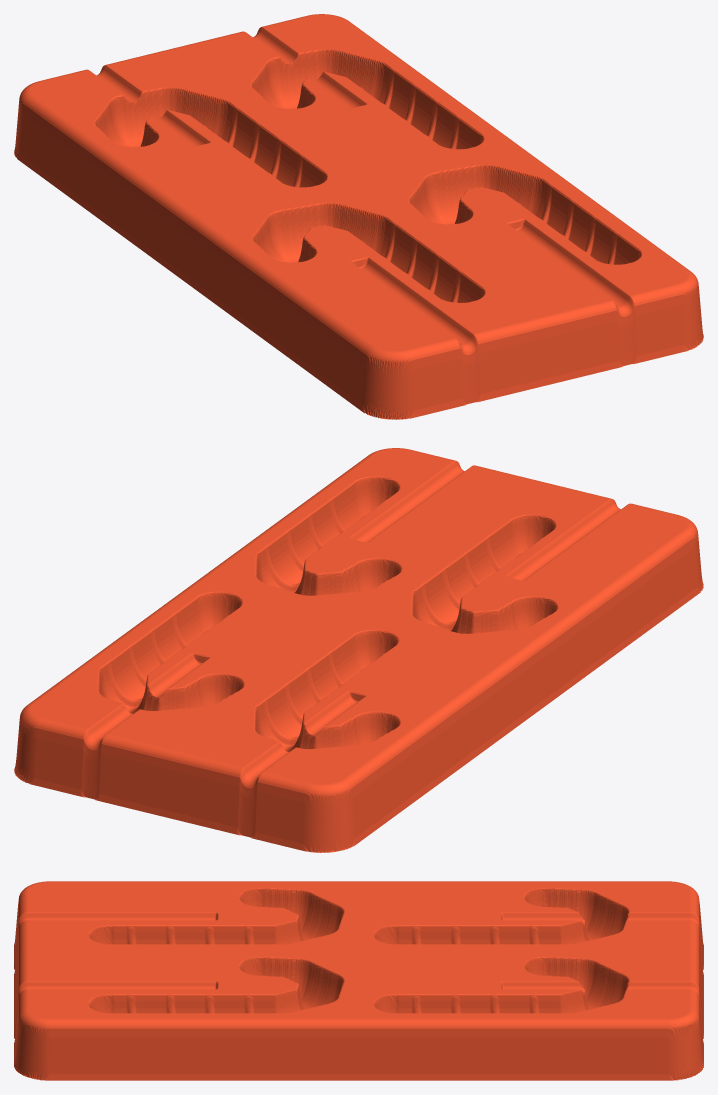
The model's file is mold.glb.
3 views of the same model, one above another, from view 1: azimuth 30°, elevation 25°; view 2: azimuth 150°, elevation 25°; view 3: azimuth 270°, elevation 25° (orthographic). The views are drawn at different scales.
Visible parts, largest first — view 1: geometry_0; view 2: geometry_0; view 3: geometry_0.
Part boxes in pixels (x1=…): geometry_0: x1=14, y1=14, x2=703, y2=419; geometry_0: x1=14, y1=448, x2=703, y2=852; geometry_0: x1=14, y1=881, x2=703, y2=1080.
Bounding box in the file's own units: 0.0884 × 0.0155 × 0.1735.
